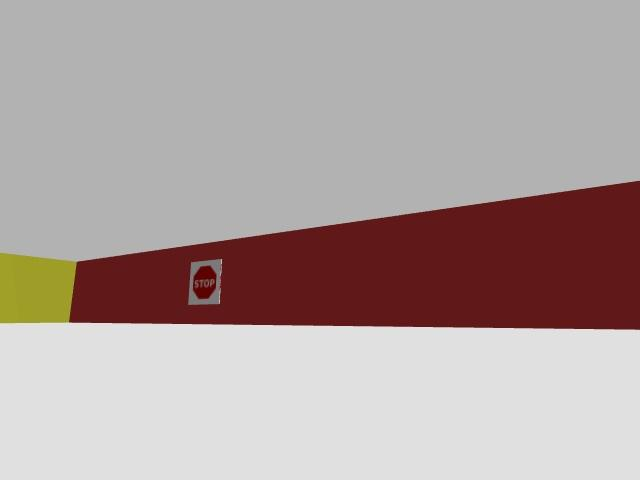stop: (188, 259, 221, 304)
